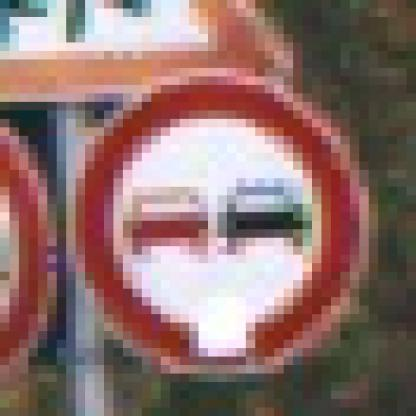No Overtaking: (48, 52, 370, 374)
